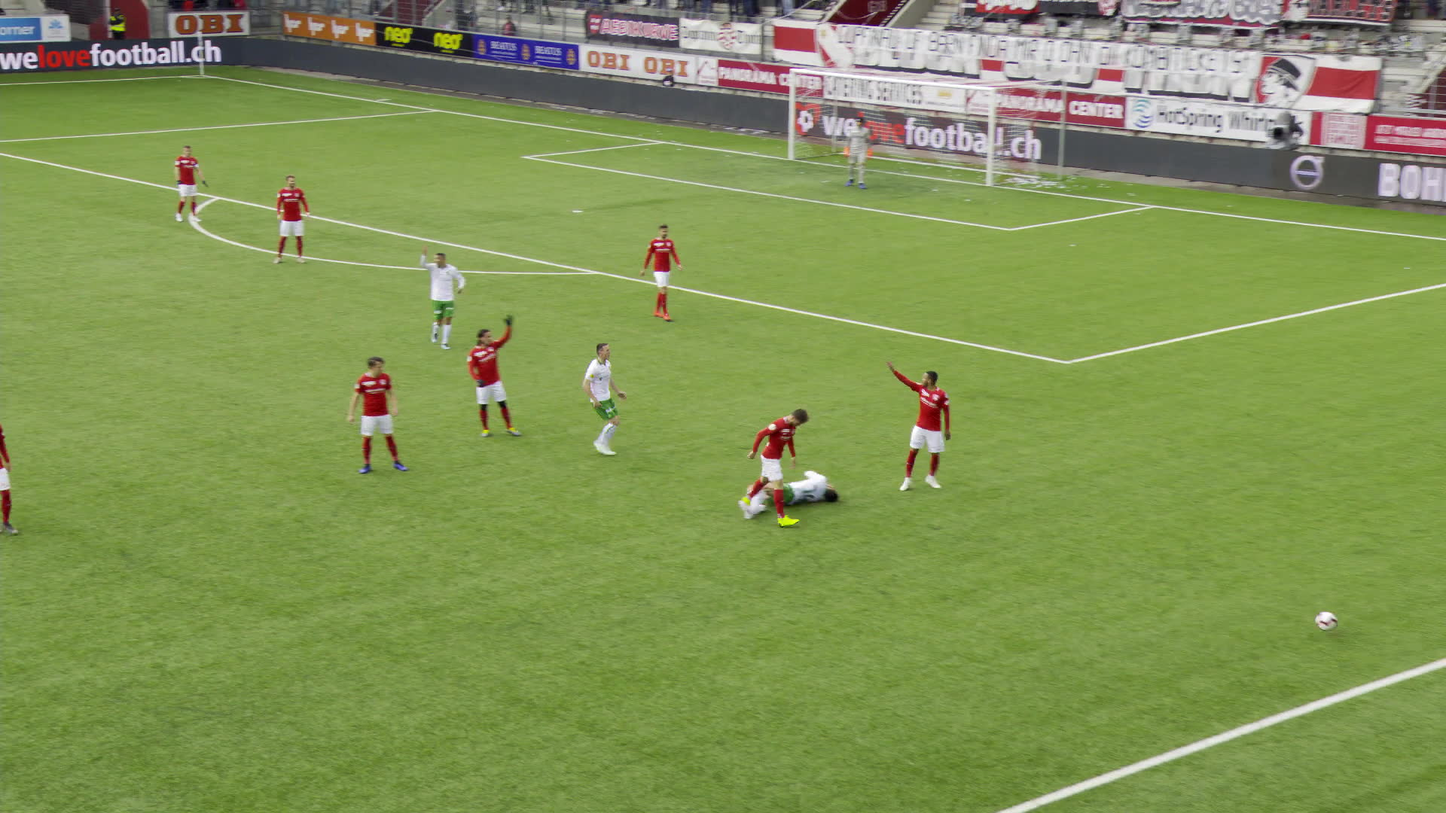ball: (1313, 611, 1336, 631)
player: (883, 362, 952, 489), (749, 409, 810, 525), (355, 358, 413, 472), (469, 318, 522, 437), (578, 343, 633, 457), (752, 468, 847, 517), (421, 245, 463, 347), (649, 224, 686, 318), (275, 175, 312, 263), (176, 145, 212, 221), (843, 117, 874, 188), (0, 416, 15, 531)
